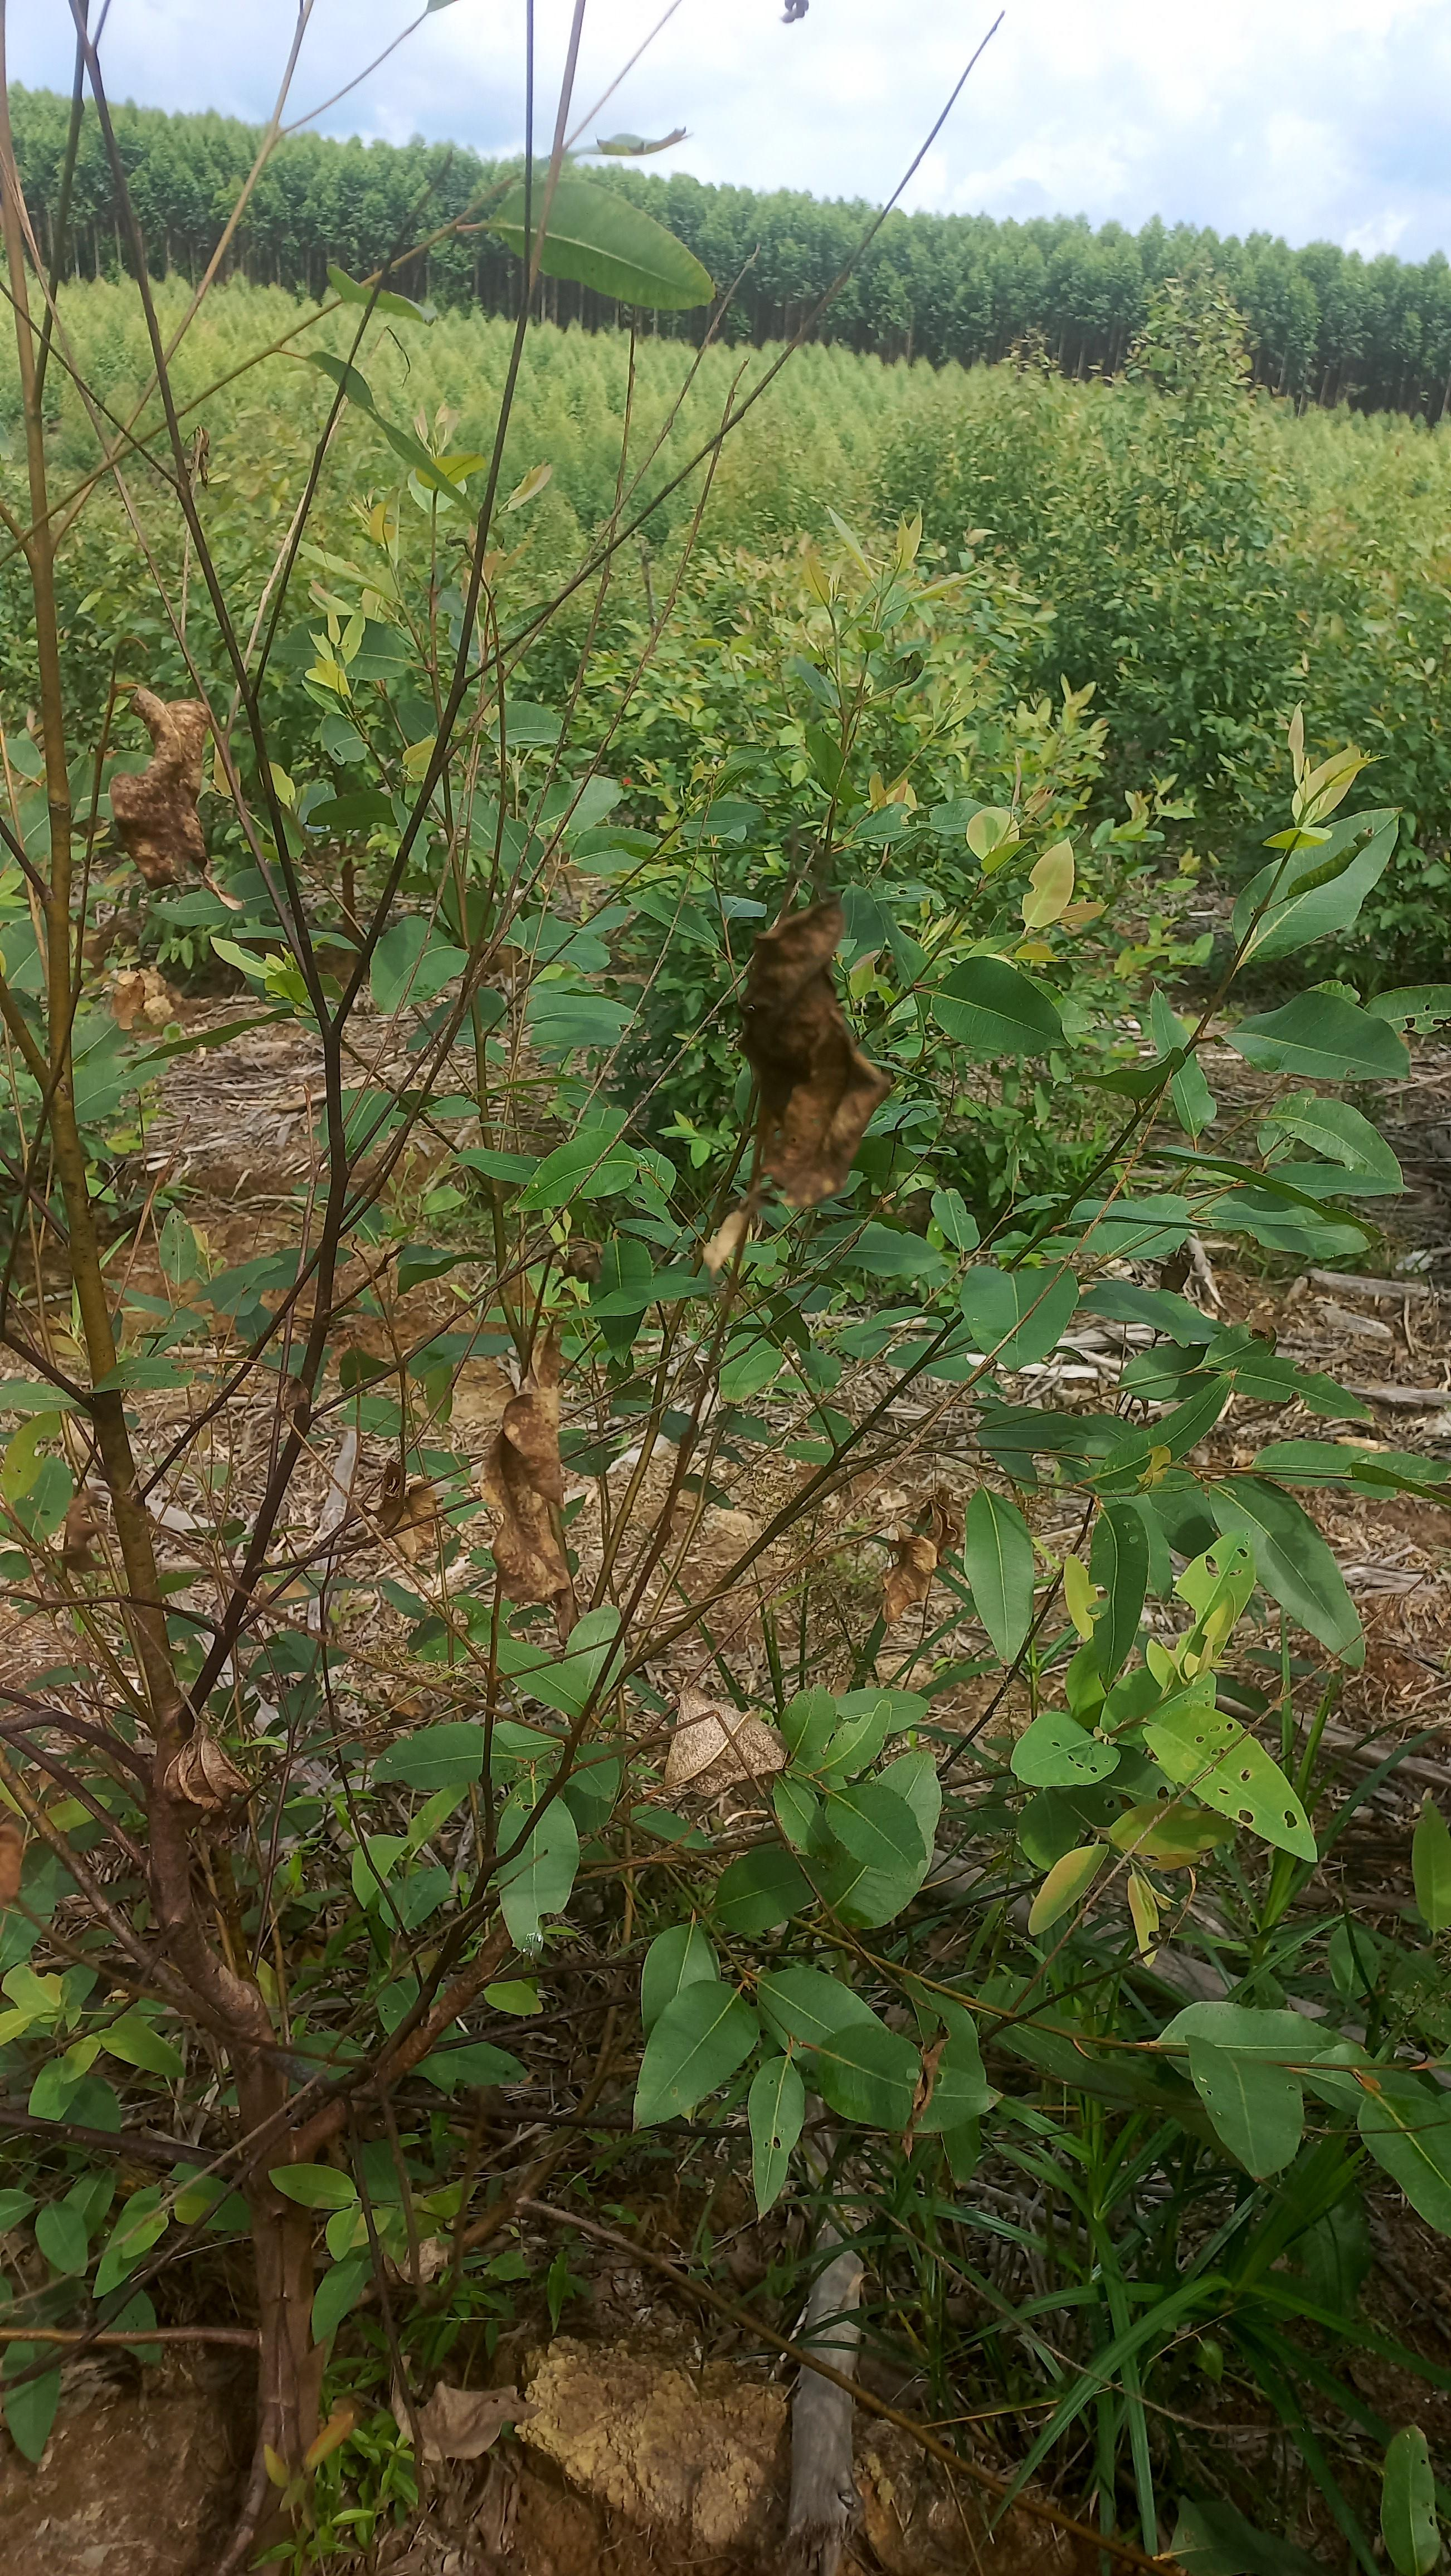Helopeltis-Withered Sprout: (741, 881, 910, 1217), (460, 1338, 609, 1605), (104, 686, 257, 904), (879, 1491, 966, 1631), (161, 1718, 255, 1828), (48, 1488, 111, 1578), (103, 973, 173, 1039)
